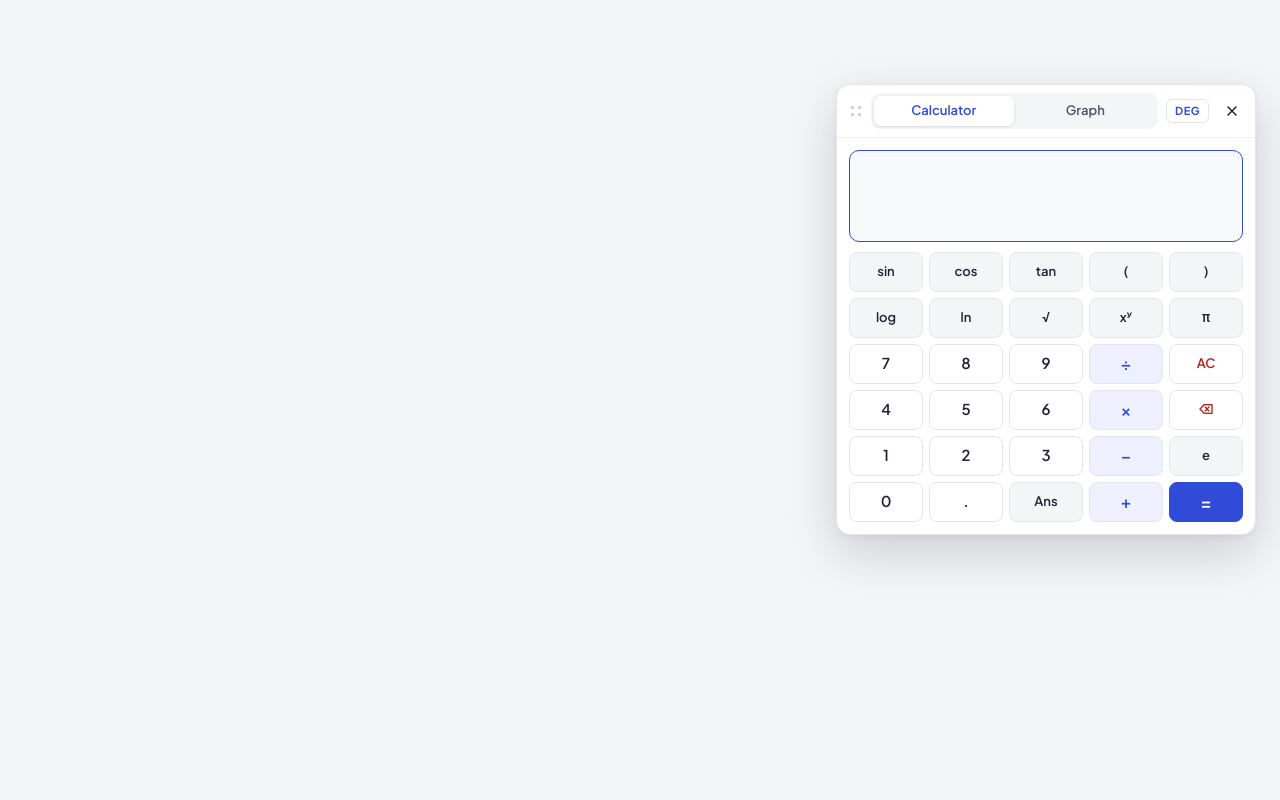
Test: calculator panel › graphing mode has a Graph tab with three functions and errors per line
Later steps or results of the test are not shown.
Click the tab "Graph".
click(1085, 111)  # box [1016,96,1155,126]
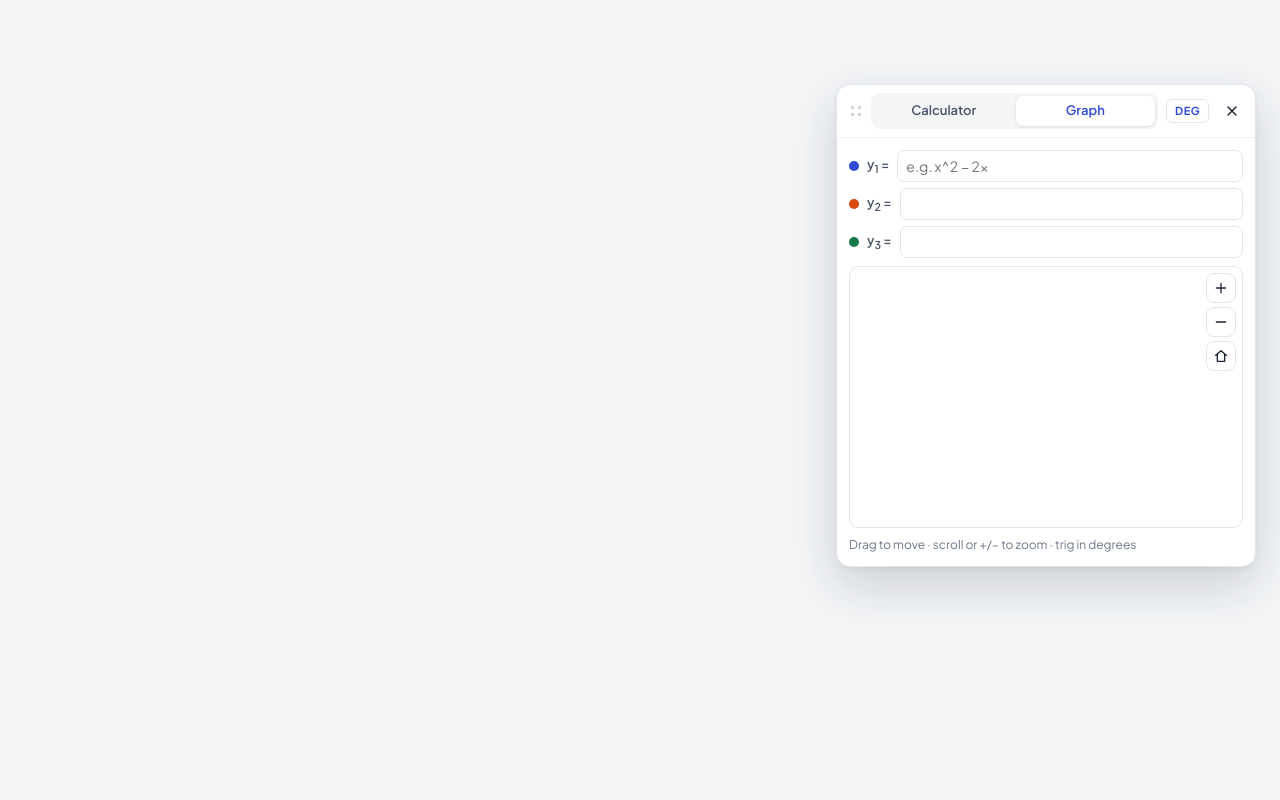
Expected: the field labelled "y3 =" is shown, [900,226,1243,258]
Type "x^2+" into the field labelled "y1 =".
click(1070, 166); type("x^2+")  # box [897,150,1243,182]
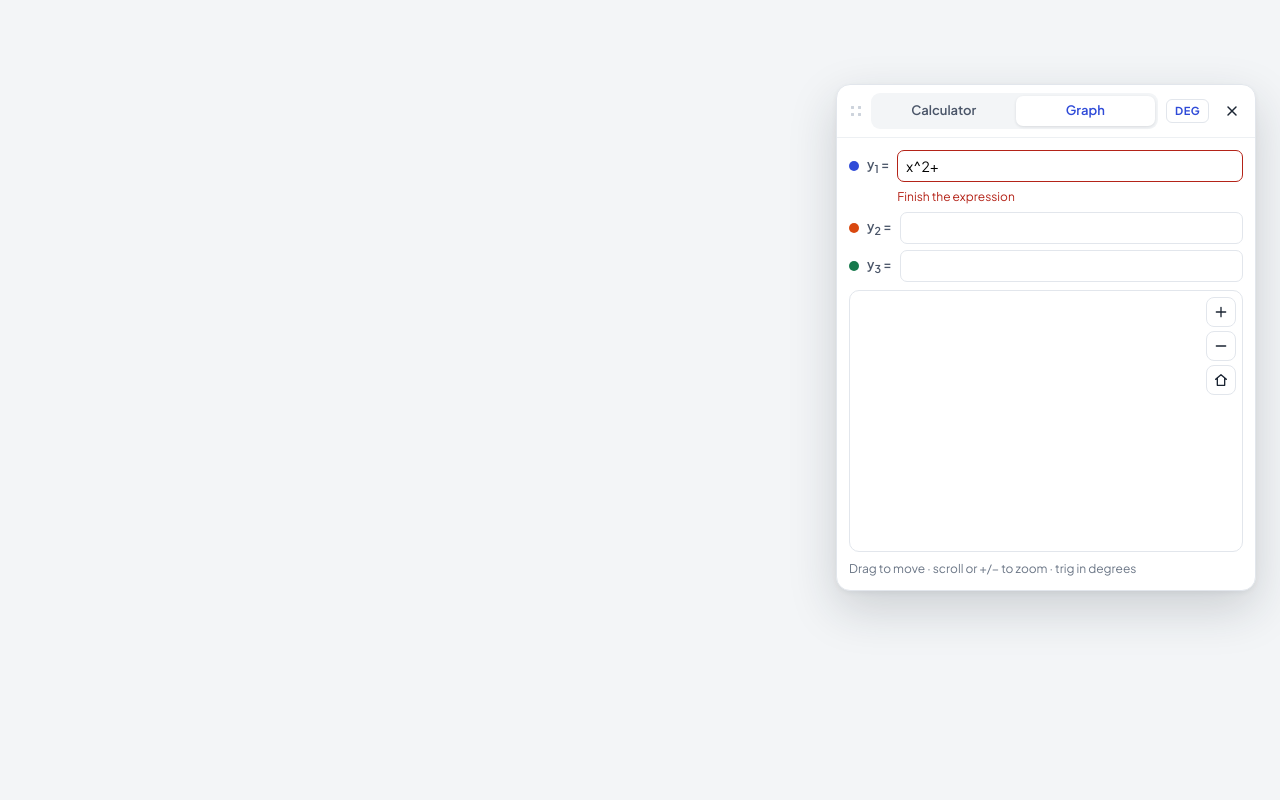
Expected: the message shows "Finish", [897,188,1015,204]
Replace the text in the field labelled "y1 =" with "x^2" at (1070, 166), box [897,150,1243,182]
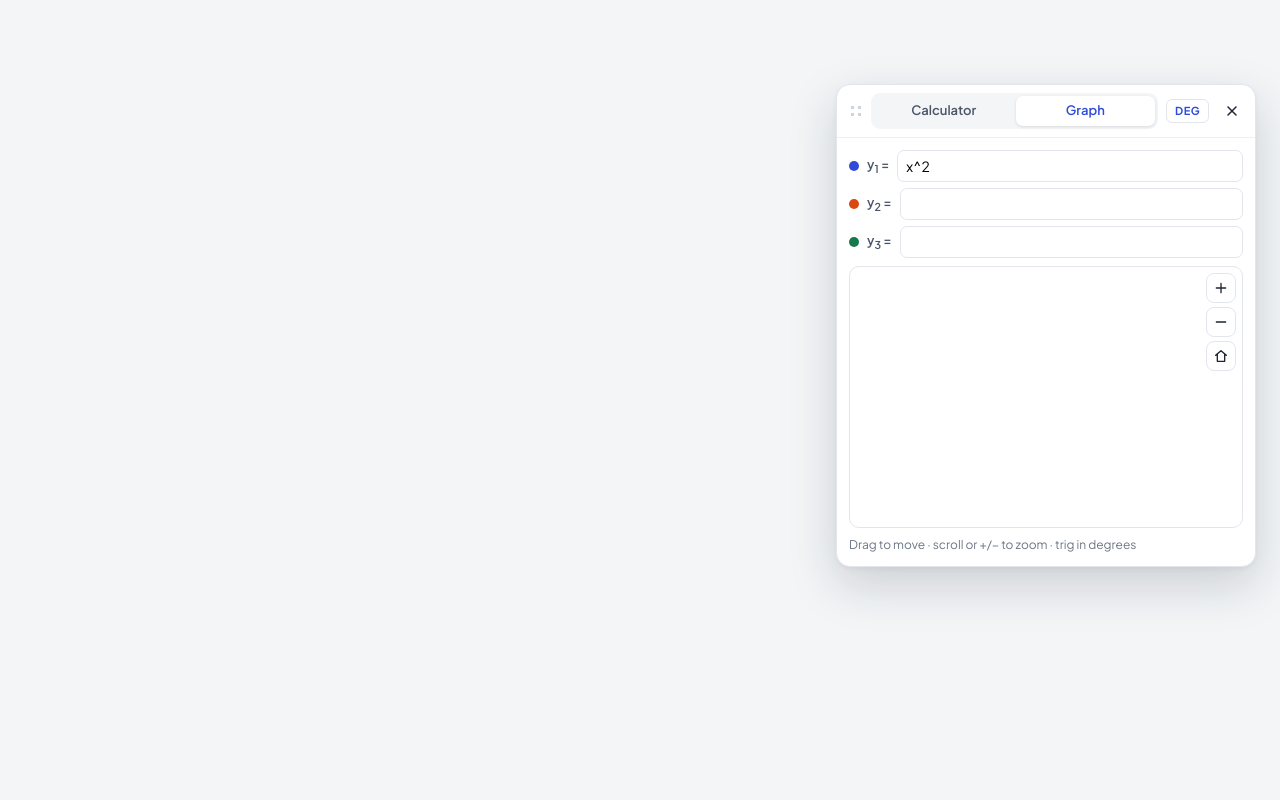
Expected: the picture named "Graph" is shown, [850,266,1238,526]
Expected: the message "Finish the expression" is gone
